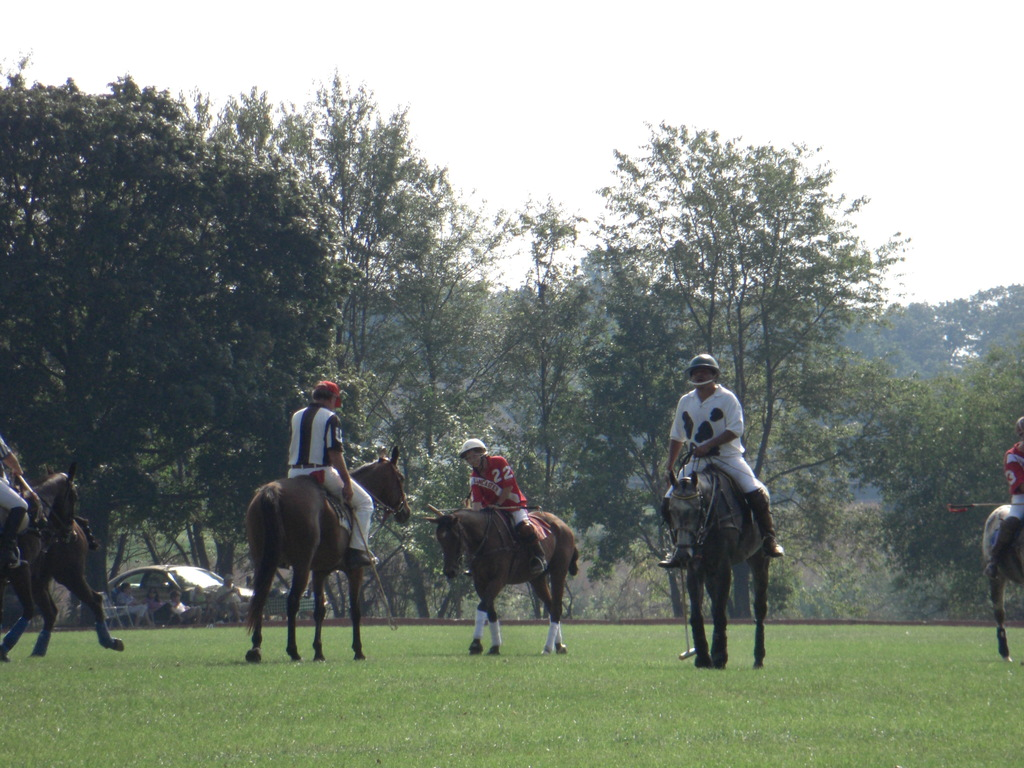Person: (657, 354, 785, 572), (283, 381, 377, 568), (455, 434, 537, 579), (110, 572, 245, 625), (983, 415, 1024, 581), (0, 431, 28, 573)
